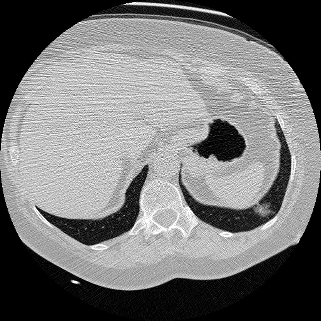nodule: (255, 203, 271, 219)
